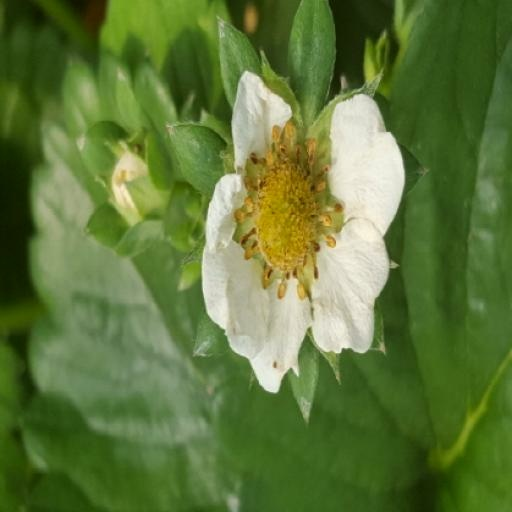Blossom Blight: (232, 208, 346, 392)
